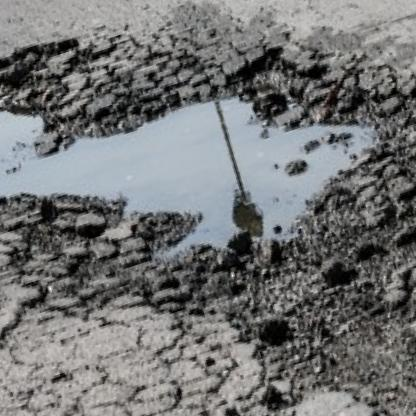pothole: (0, 0, 405, 361)
